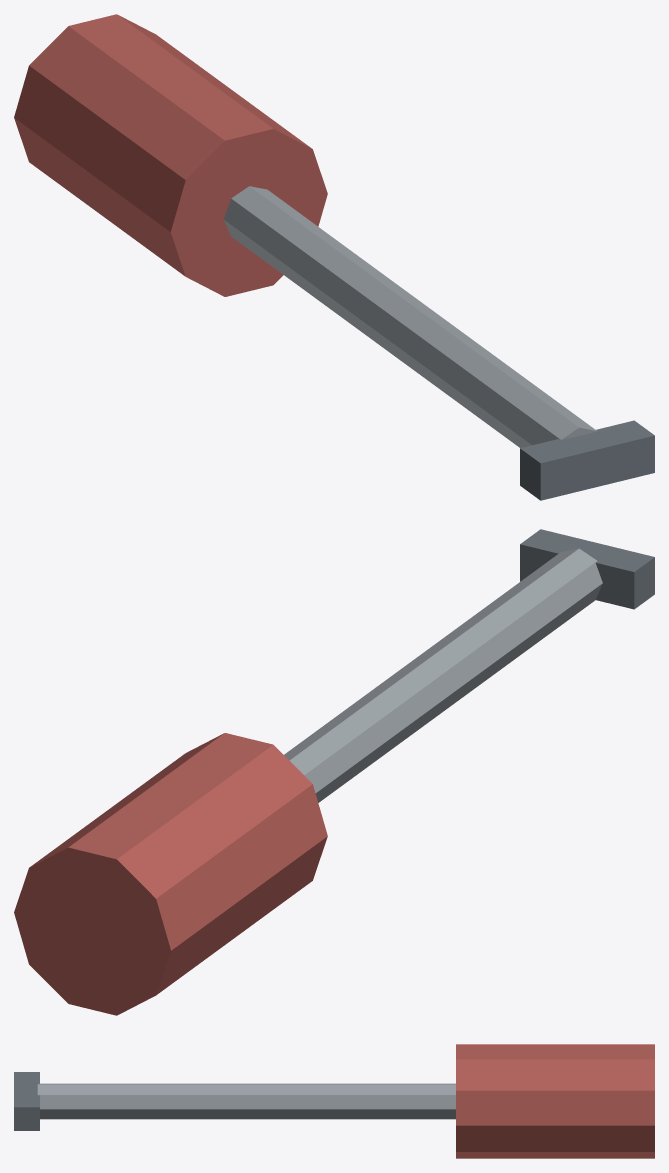
Rendered from screwdriver.glb.
The picture shows the model from 3 angles, top to bottom: view 1: azimuth 30°, elevation 25°; view 2: azimuth 150°, elevation 25°; view 3: azimuth 270°, elevation 25°; orthographic projection. The views are drawn at different scales.
Visible parts, largest first — view 1: 00_handle, 01_shaft, 02_flat_tip; view 2: 00_handle, 01_shaft, 02_flat_tip; view 3: 00_handle, 01_shaft, 02_flat_tip.
Boxes of the visible parts, <box> form: 00_handle: <box>14,14,327,296</box>; 01_shaft: <box>223,186,597,447</box>; 02_flat_tip: <box>520,420,654,500</box>; 00_handle: <box>14,733,327,1015</box>; 01_shaft: <box>284,548,602,802</box>; 02_flat_tip: <box>520,529,654,609</box>; 00_handle: <box>456,1044,654,1158</box>; 01_shaft: <box>37,1083,455,1119</box>; 02_flat_tip: <box>14,1072,39,1130</box>.
Bounding box in the file's own units: 0.11 × 0.1046 × 0.6125.
